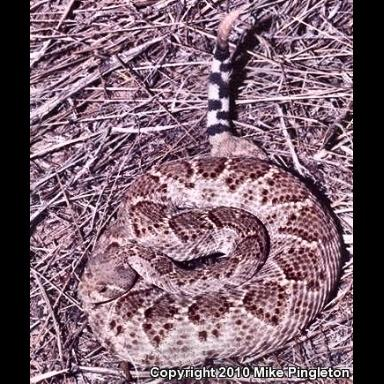snake: (66, 0, 353, 384)
